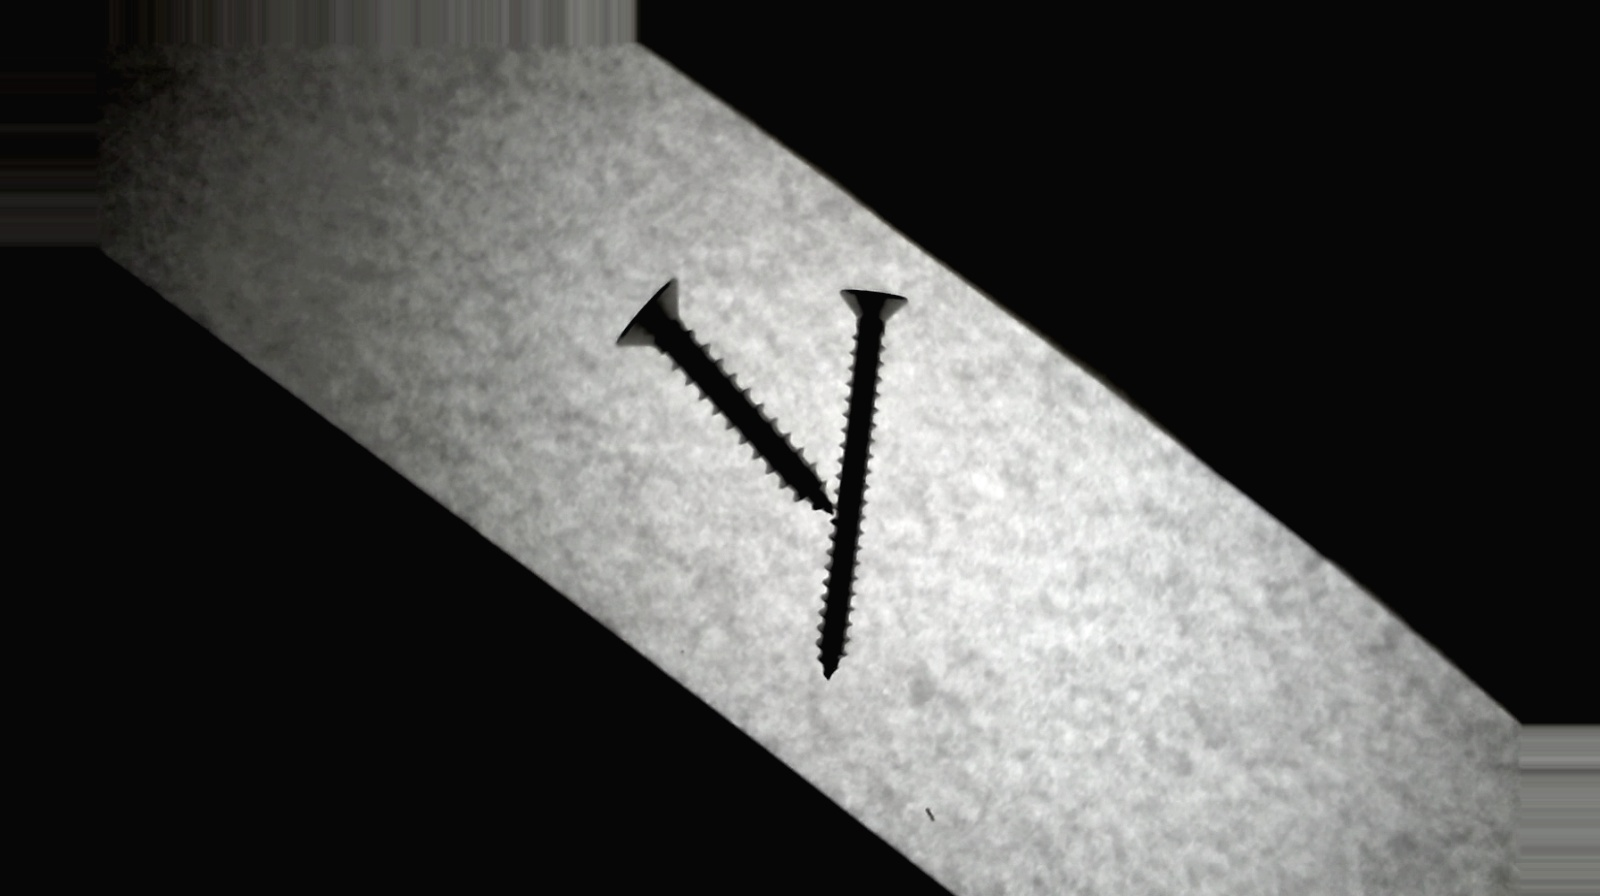S001: (613, 273, 829, 506)
S002: (810, 278, 905, 676)
